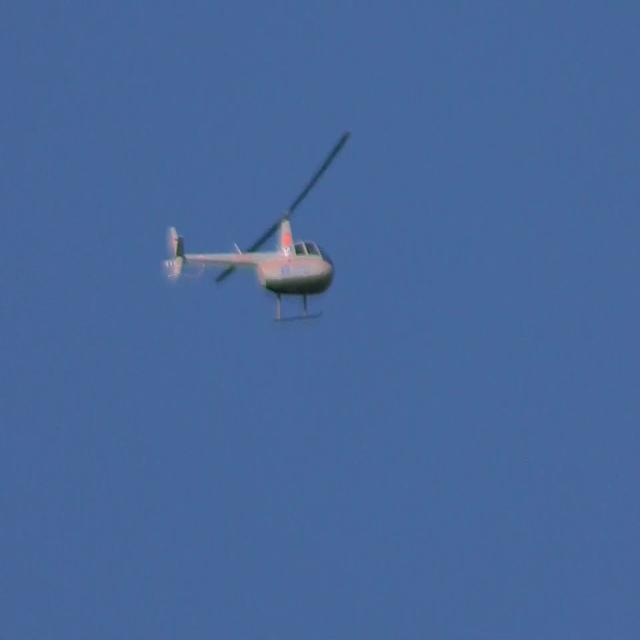CIV_HELO: (163, 217, 337, 322)
